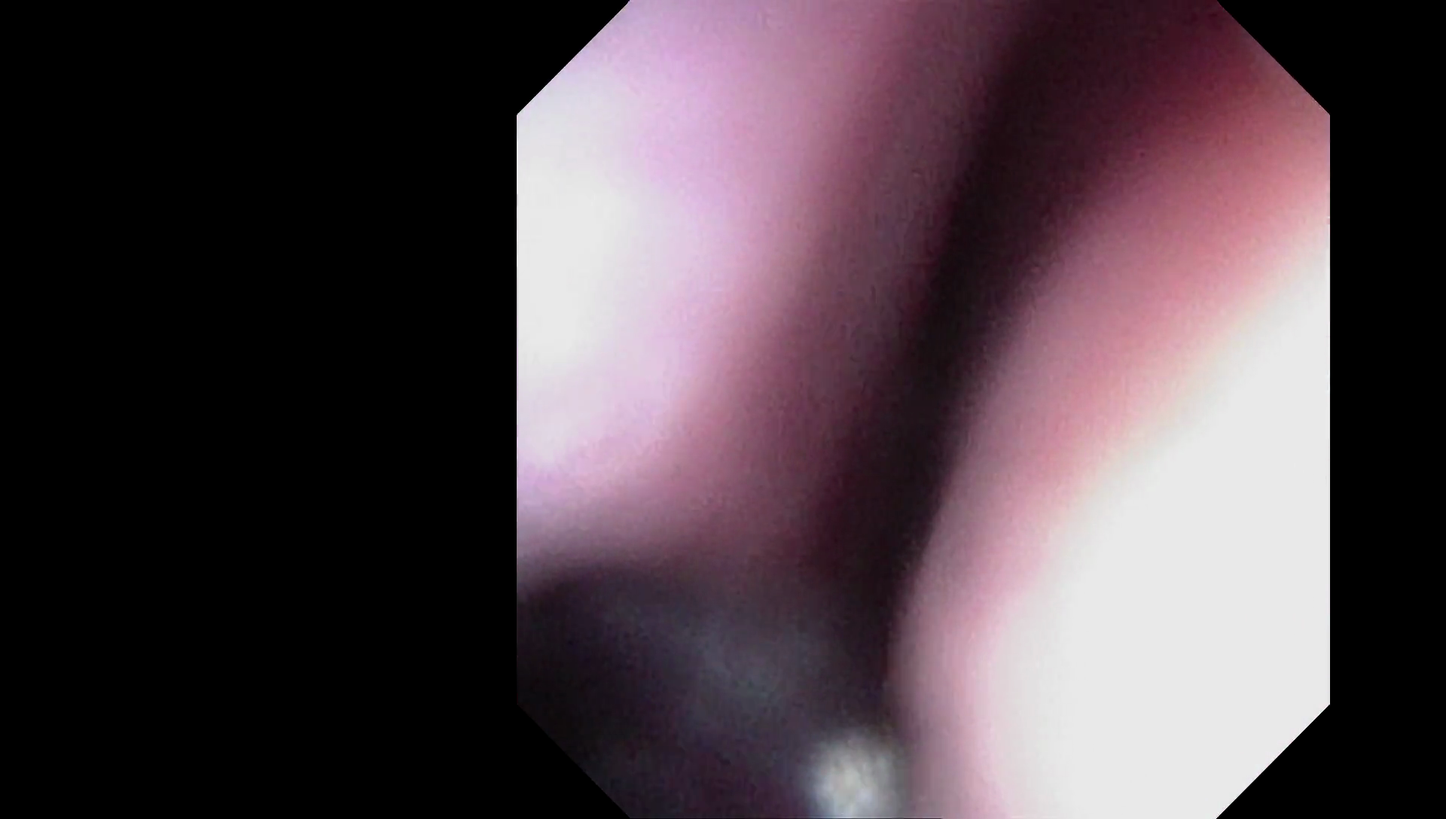close_wall: (983, 302, 1317, 711), (526, 120, 828, 519)
next: (785, 360, 1065, 712), (867, 63, 1087, 394)
